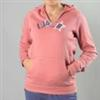felpa: (20, 4, 95, 94)
